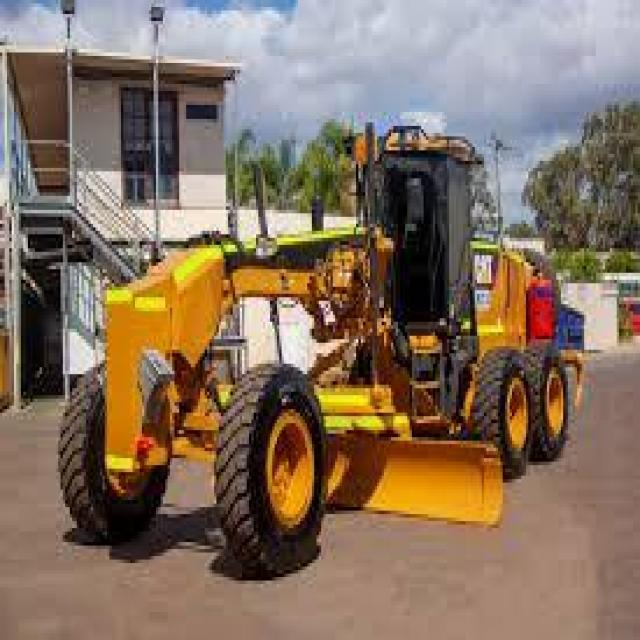Grader: (49, 112, 586, 601)
